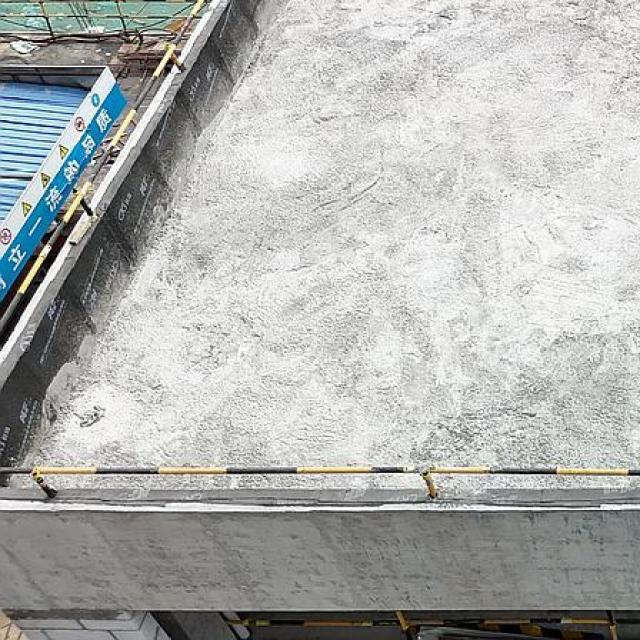edge_guardrail: (0, 0, 212, 334), (0, 464, 640, 497), (224, 608, 639, 640), (0, 0, 199, 43)
